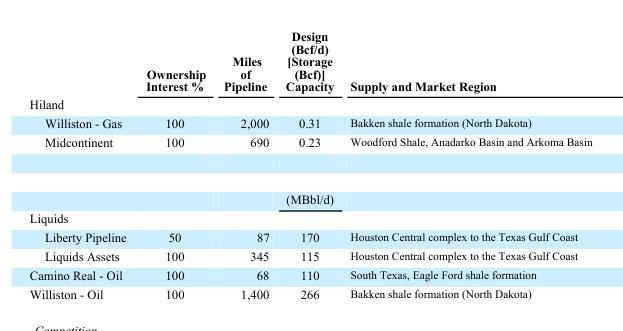table: (28, 28, 591, 300)
table column: (341, 28, 591, 300), (28, 28, 135, 300), (135, 28, 214, 300), (276, 28, 341, 300), (214, 28, 276, 300)
table column header: (28, 28, 591, 95)
table projected row header: (28, 208, 591, 227), (28, 95, 591, 113)
table row: (28, 28, 591, 95), (28, 132, 591, 170), (28, 170, 591, 208), (28, 113, 591, 132), (28, 208, 591, 227), (28, 227, 591, 246), (28, 246, 591, 265), (28, 95, 591, 113), (28, 265, 591, 283), (28, 283, 591, 300)
